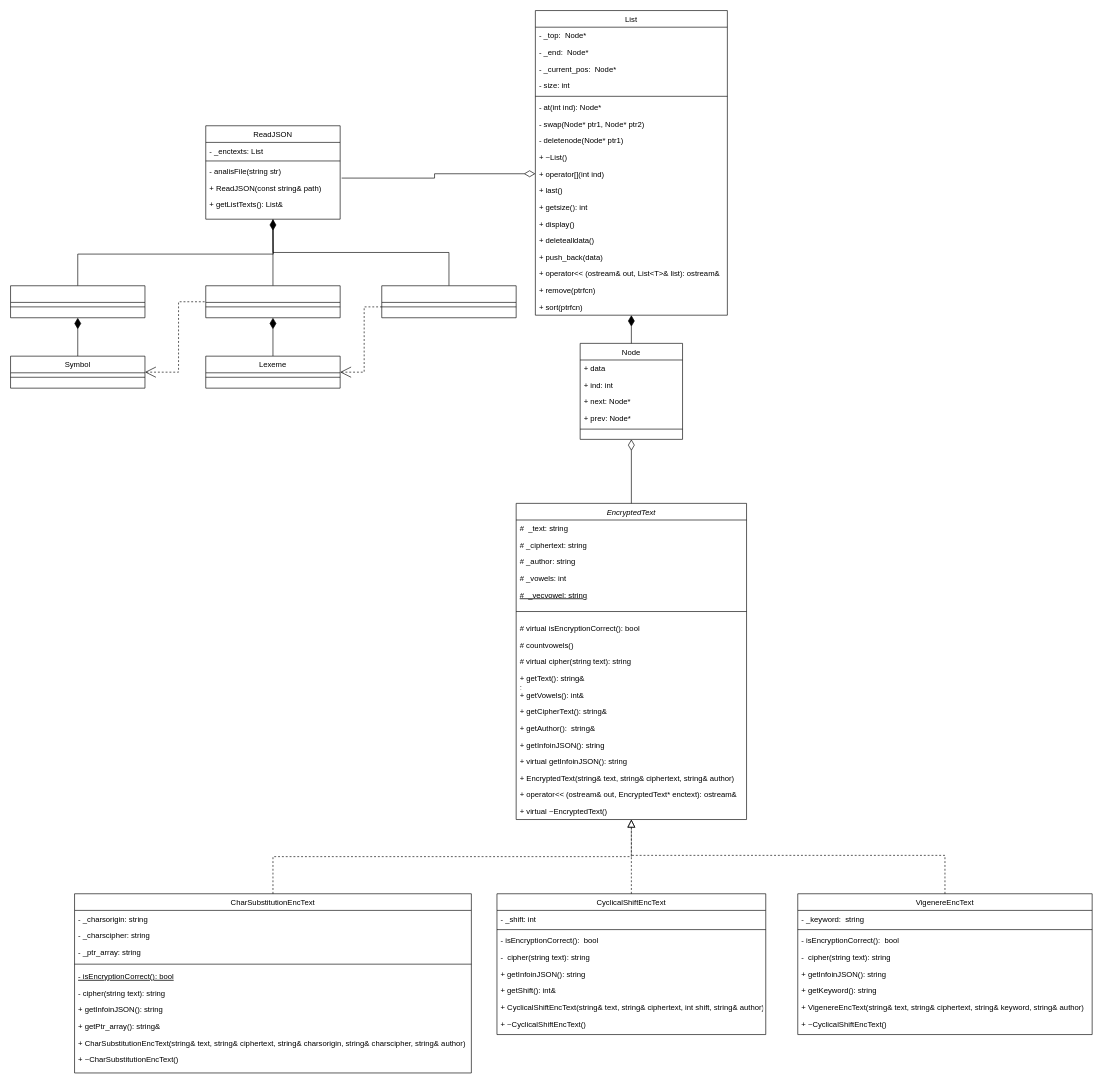
The diagram is 1103 pixels wide and 1084 high, and some of its shapes have lost their labels. The centre of each missing label's shape, as x and y in pixels:
LexicalAnalyzer: [272,301]
SyntacticalAnalyzer: [448,301]
Transliterator: [77,301]
